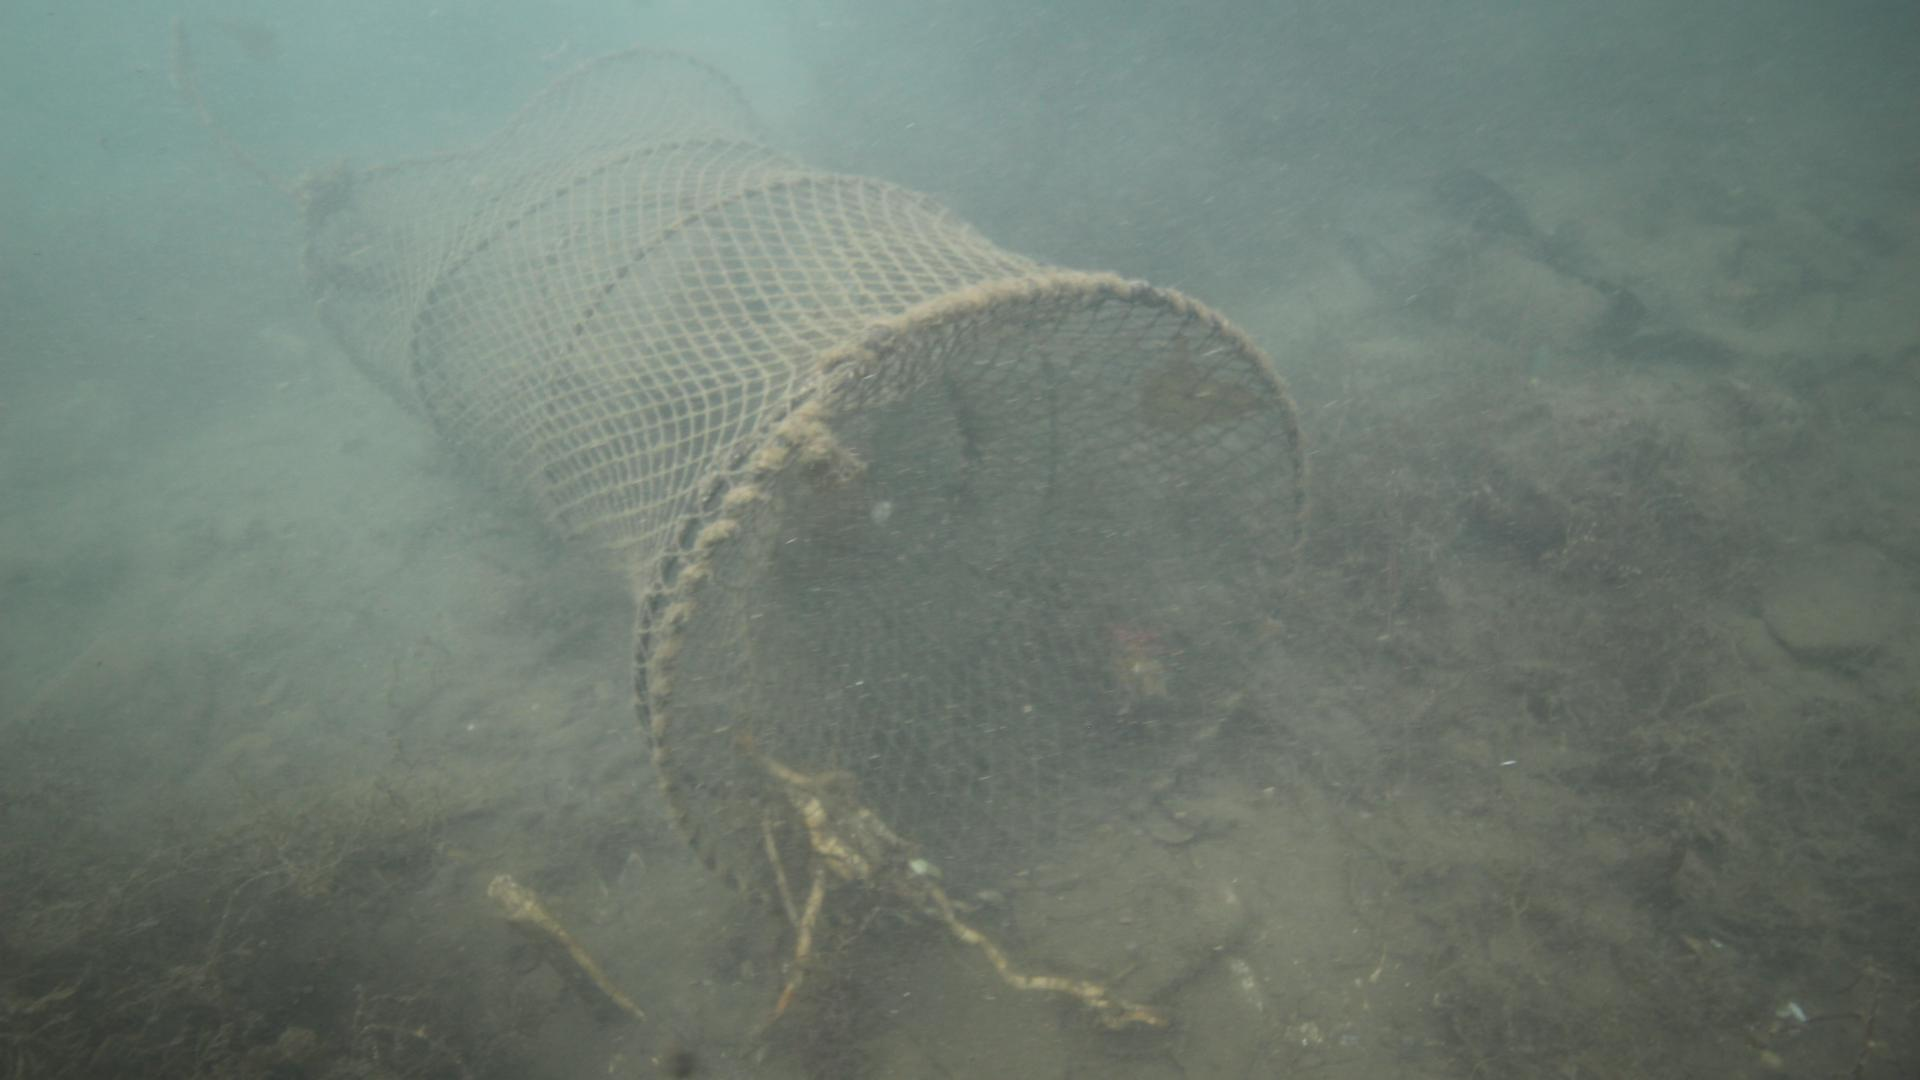spring fish trap: (291, 42, 1313, 935)
